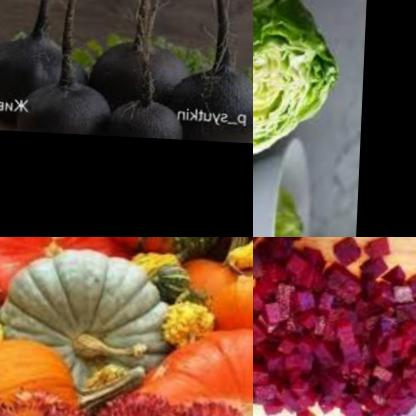beet: (253, 237, 416, 416)
pumpkin: (0, 244, 177, 398), (119, 314, 253, 416), (162, 237, 253, 335), (0, 237, 120, 308), (0, 335, 87, 416), (0, 283, 18, 368), (223, 237, 253, 284)
redka: (0, 29, 94, 125), (86, 33, 195, 108), (170, 48, 253, 138), (18, 74, 118, 132), (114, 94, 190, 136)
salad: (253, 0, 355, 162), (254, 186, 336, 237)
